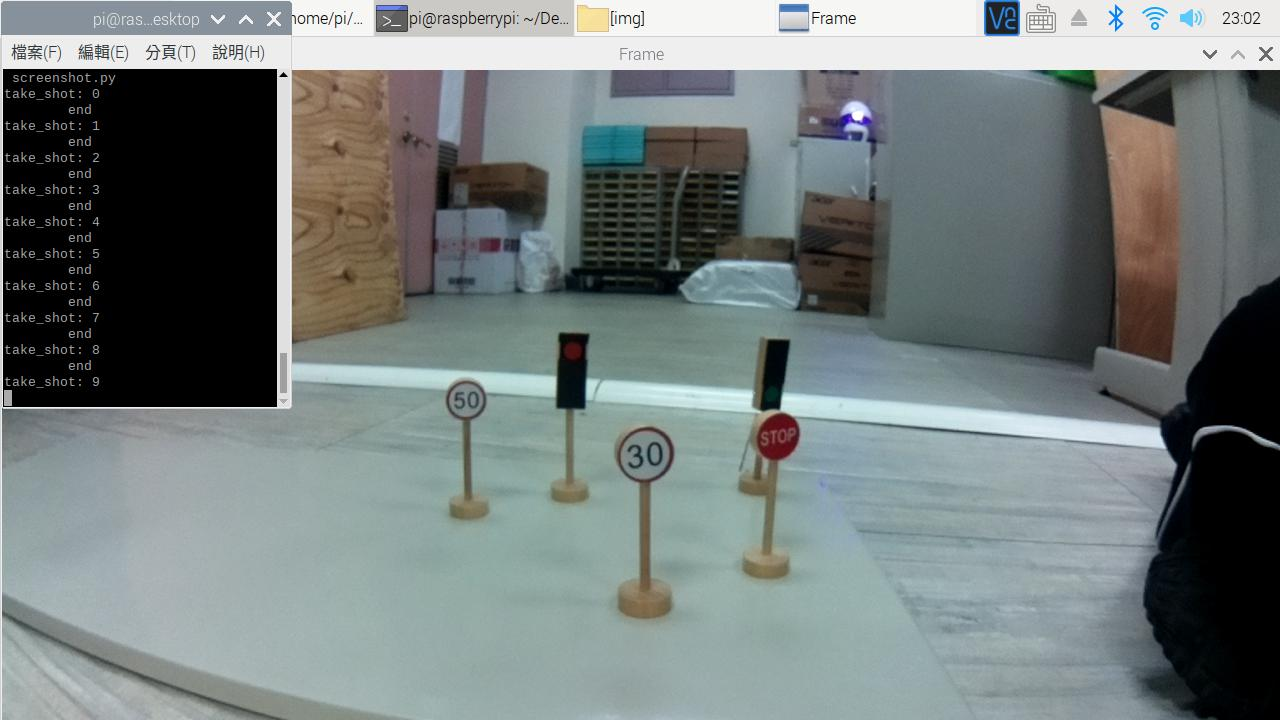Green: (767, 335, 783, 414)
Red: (558, 329, 581, 412)
Speed30: (615, 420, 675, 482)
Speed50: (445, 379, 483, 416)
Stop: (759, 411, 798, 460)
